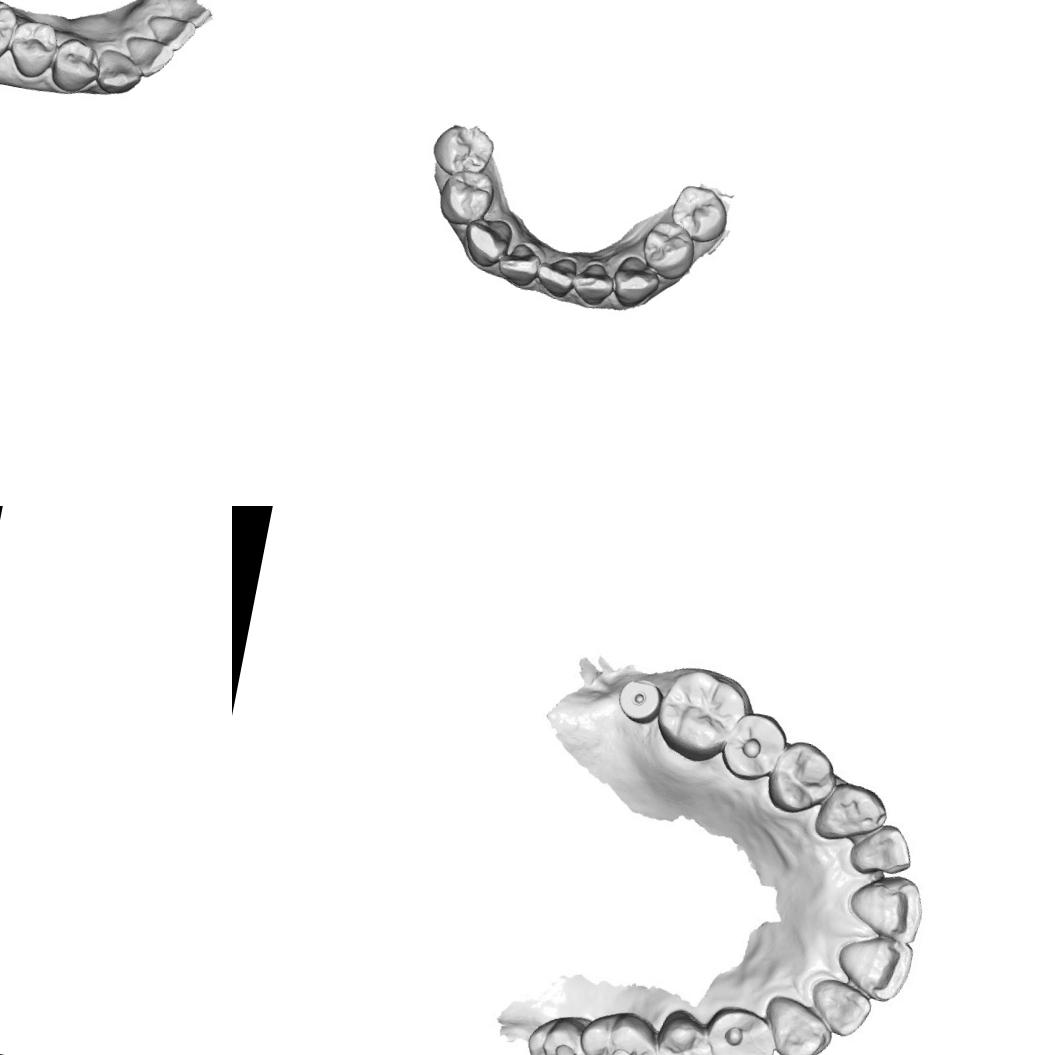canine: (816, 780, 888, 850), (761, 991, 838, 1055), (608, 252, 663, 312), (458, 212, 514, 270), (90, 46, 144, 98)
implant: (613, 670, 668, 731)
incisor: (837, 930, 912, 1001), (848, 872, 922, 939), (848, 819, 914, 879), (807, 974, 870, 1036), (117, 32, 177, 84), (140, 11, 198, 55), (494, 238, 544, 289), (567, 258, 616, 309), (532, 249, 580, 300), (159, 0, 215, 30)
molar: (655, 668, 746, 760), (575, 1008, 668, 1055), (521, 1010, 603, 1055), (0, 0, 22, 71)
premolar: (765, 737, 834, 814), (722, 710, 790, 784), (427, 117, 498, 182), (665, 180, 734, 246), (636, 217, 700, 283), (434, 164, 498, 230), (3, 15, 62, 84), (46, 32, 106, 97), (704, 1003, 779, 1055), (654, 1011, 716, 1055)
